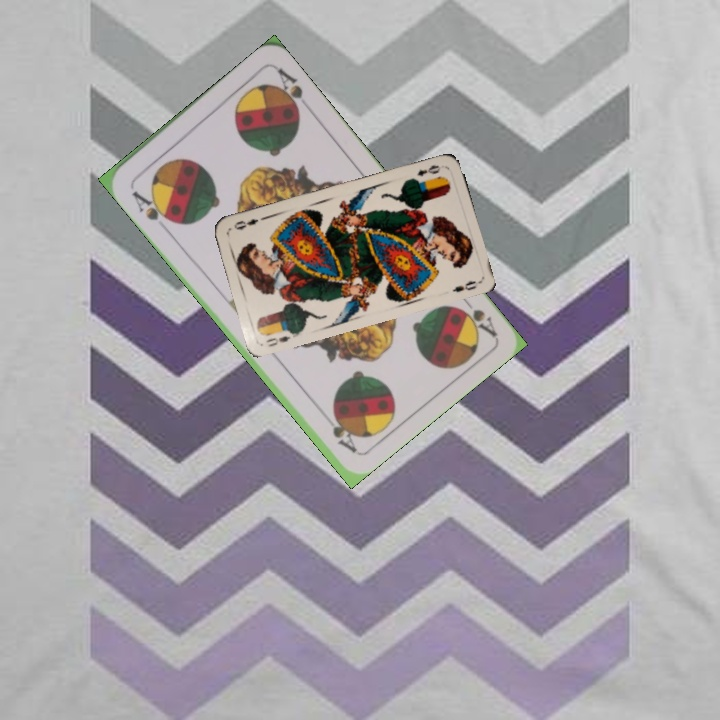EO: (262, 325, 299, 349), (413, 161, 448, 179)
SA: (452, 289, 499, 339), (127, 186, 176, 226)
